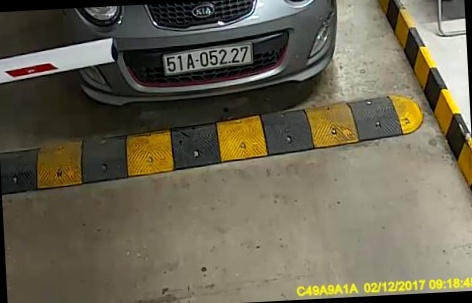plate: (161, 43, 263, 82)
